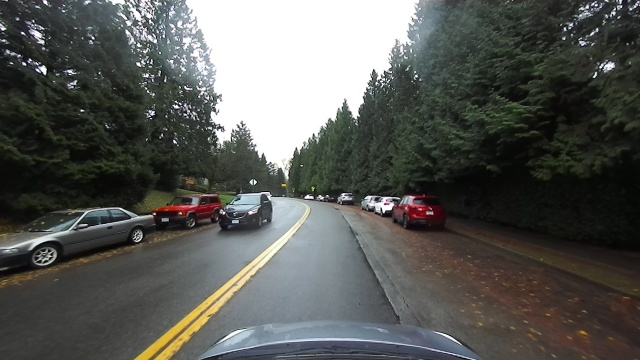car: (3, 200, 157, 278), (217, 190, 276, 231), (158, 189, 219, 228), (392, 193, 448, 230), (376, 195, 396, 216), (358, 195, 378, 212), (337, 192, 355, 206), (303, 193, 314, 200), (316, 195, 325, 202), (326, 194, 334, 201)
